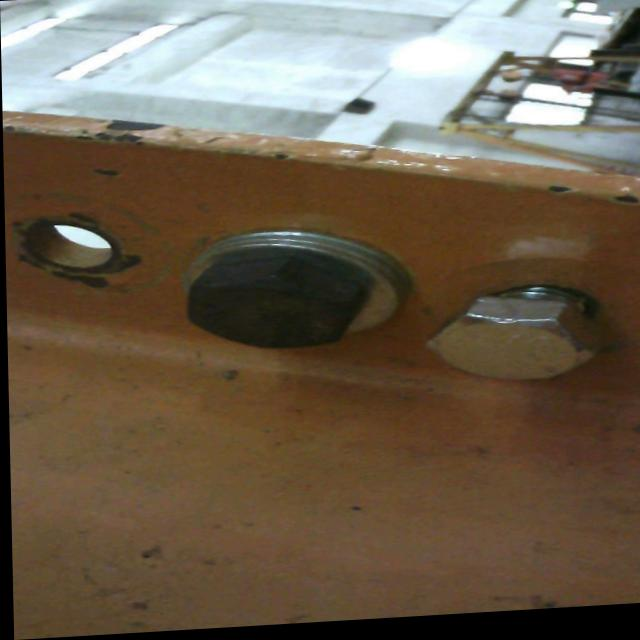Loose bolt: (431, 289, 600, 386)
Missing bolt: (14, 216, 113, 279)
Regular bolt: (180, 226, 408, 357), (423, 288, 611, 393)
